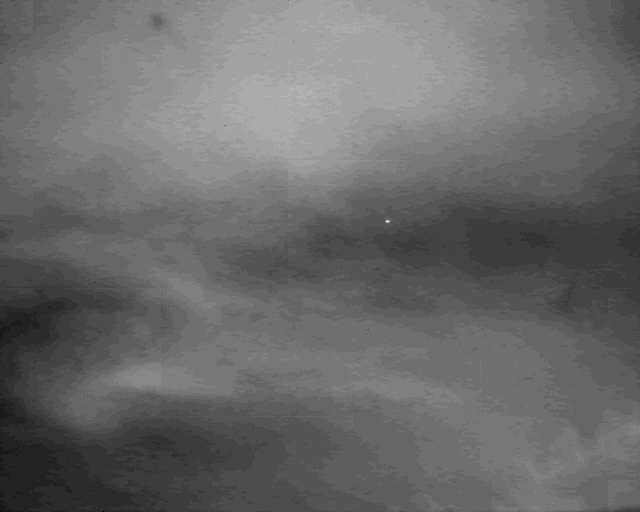Target: (386, 220, 392, 225)
